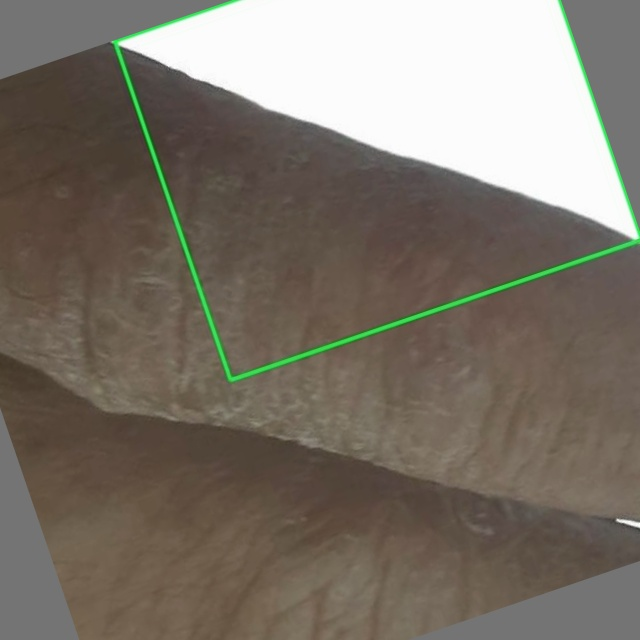Contact Dermatitis: (114, 0, 639, 380)
